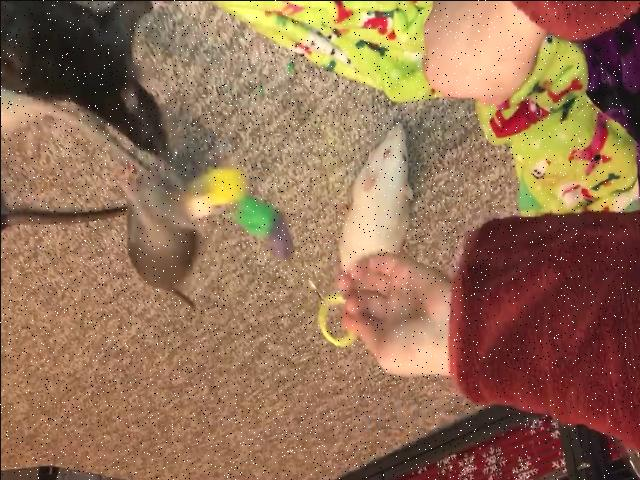Tikus: (2, 0, 166, 155), (336, 120, 413, 270), (116, 167, 202, 290)
